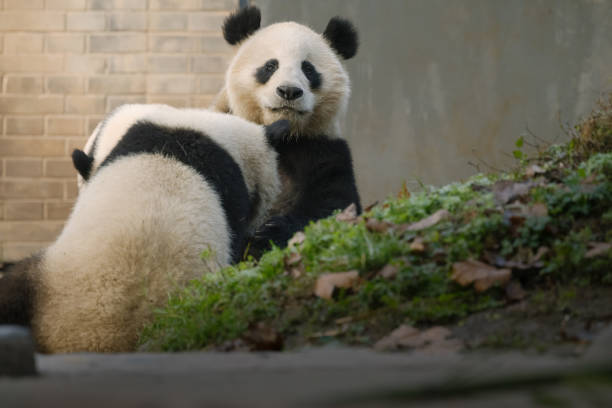panda: (220, 13, 379, 155)
